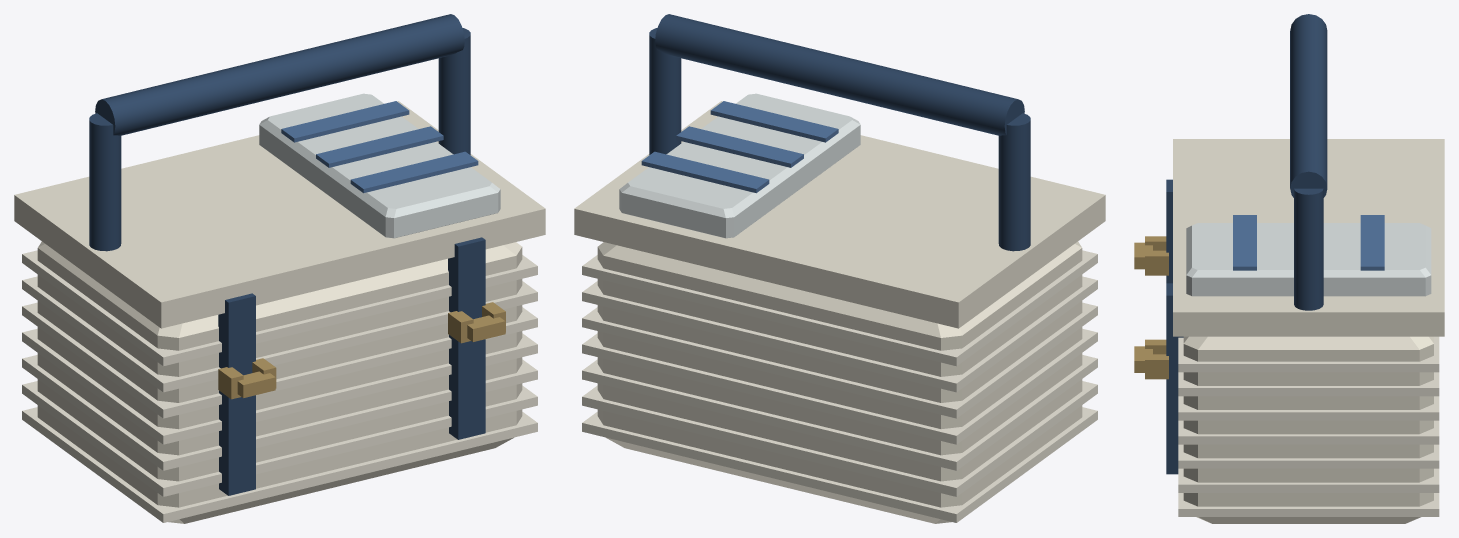
Rendered from v18_picnic_hamper.glb.
3 views of the same model, side by side, from view 1: azimuth 30°, elevation 25°; view 2: azimuth 150°, elevation 25°; view 3: azimuth 270°, elevation 25° (orthographic). The views are drawn at different scales.
Visible parts, largest first — view 1: _MeshInstance3D_2664, _MeshInstance3D_2675, _MeshInstance3D_2684, _MeshInstance3D_2674, _MeshInstance3D_2665, _MeshInstance3D_2680, _MeshInstance3D_2676, _MeshInstance3D_2671, _MeshInstance3D_2667, _MeshInstance3D_2666, _MeshInstance3D_2668, _MeshInstance3D_2670 (+10 smaller); view 2: _MeshInstance3D_2664, _MeshInstance3D_2675, _MeshInstance3D_2684, _MeshInstance3D_2674, _MeshInstance3D_2671, _MeshInstance3D_2667, _MeshInstance3D_2669, _MeshInstance3D_2665, _MeshInstance3D_2670, _MeshInstance3D_2666, _MeshInstance3D_2668, _MeshInstance3D_2672 (+4 smaller); view 3: _MeshInstance3D_2675, _MeshInstance3D_2664, _MeshInstance3D_2684, _MeshInstance3D_2674, _MeshInstance3D_2673, _MeshInstance3D_2671, _MeshInstance3D_2670, _MeshInstance3D_2669, _MeshInstance3D_2668, _MeshInstance3D_2667, _MeshInstance3D_2666, _MeshInstance3D_2665 (+6 smaller).
Part boxes in pixels (x1=…): _MeshInstance3D_2664: x1=37, y1=241, x2=522, y2=523; _MeshInstance3D_2675: x1=14, y1=101, x2=545, y2=328; _MeshInstance3D_2684: x1=259, y1=93, x2=500, y2=238; _MeshInstance3D_2674: x1=95, y1=14, x2=464, y2=135; _MeshInstance3D_2665: x1=22, y1=407, x2=537, y2=522; _MeshInstance3D_2680: x1=448, y1=237, x2=485, y2=439; _MeshInstance3D_2676: x1=218, y1=293, x2=255, y2=495; _MeshInstance3D_2671: x1=22, y1=250, x2=537, y2=366; _MeshInstance3D_2667: x1=22, y1=355, x2=537, y2=470; _MeshInstance3D_2666: x1=22, y1=381, x2=537, y2=496; _MeshInstance3D_2668: x1=22, y1=328, x2=537, y2=444; _MeshInstance3D_2670: x1=22, y1=276, x2=537, y2=392; _MeshInstance3D_2664: x1=597, y1=241, x2=1082, y2=523; _MeshInstance3D_2675: x1=574, y1=101, x2=1105, y2=328; _MeshInstance3D_2684: x1=619, y1=93, x2=860, y2=238; _MeshInstance3D_2674: x1=655, y1=14, x2=1024, y2=135; _MeshInstance3D_2671: x1=582, y1=250, x2=1097, y2=366; _MeshInstance3D_2667: x1=582, y1=355, x2=1097, y2=470; _MeshInstance3D_2669: x1=582, y1=302, x2=1097, y2=418; _MeshInstance3D_2665: x1=582, y1=407, x2=1097, y2=522; _MeshInstance3D_2670: x1=582, y1=276, x2=1097, y2=392; _MeshInstance3D_2666: x1=582, y1=381, x2=1097, y2=496; _MeshInstance3D_2668: x1=582, y1=328, x2=1097, y2=444; _MeshInstance3D_2672: x1=998, y1=113, x2=1030, y2=251; _MeshInstance3D_2675: x1=1173, y1=139, x2=1444, y2=336; _MeshInstance3D_2664: x1=1183, y1=336, x2=1433, y2=523; _MeshInstance3D_2684: x1=1186, y1=223, x2=1431, y2=296; _MeshInstance3D_2674: x1=1290, y1=14, x2=1327, y2=197; _MeshInstance3D_2673: x1=1294, y1=188, x2=1323, y2=310; _MeshInstance3D_2671: x1=1178, y1=336, x2=1439, y2=372; _MeshInstance3D_2670: x1=1178, y1=372, x2=1439, y2=396; _MeshInstance3D_2669: x1=1178, y1=396, x2=1439, y2=420; _MeshInstance3D_2668: x1=1178, y1=420, x2=1439, y2=444; _MeshInstance3D_2667: x1=1178, y1=444, x2=1439, y2=468; _MeshInstance3D_2666: x1=1178, y1=468, x2=1439, y2=492; _MeshInstance3D_2665: x1=1178, y1=493, x2=1439, y2=516.
Size of the model in its own units: 0.681 by 0.65 by 0.5151.
